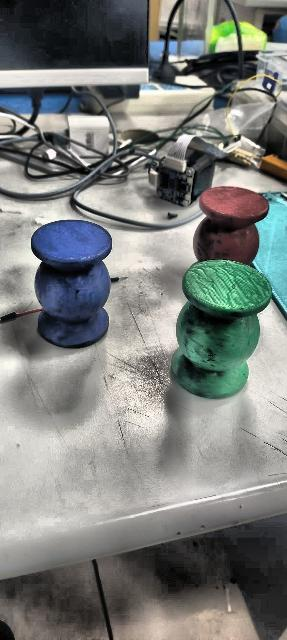blue: (31, 218, 113, 348)
green: (170, 258, 274, 398)
red: (192, 188, 270, 268)
